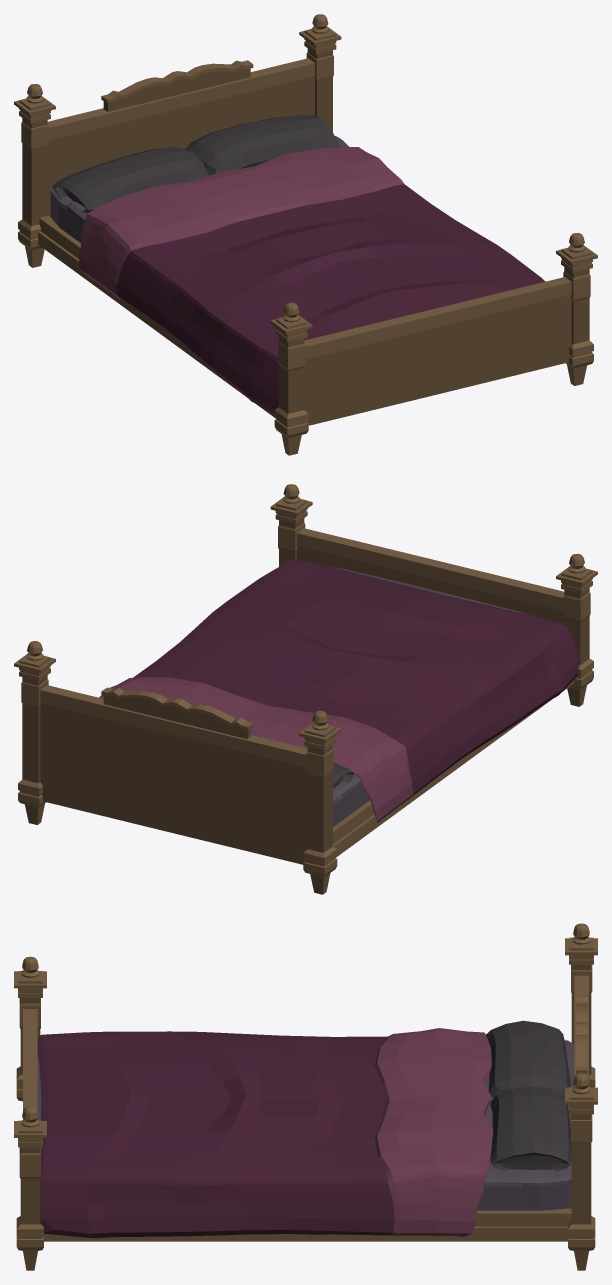
Rendered from bed.glb.
3 renders of one model, top to bottom at view 1: azimuth 30°, elevation 25°; view 2: azimuth 150°, elevation 25°; view 3: azimuth 270°, elevation 25°, orthographic. The views are drawn at different scales.
Parts seen in each view (by area): view 1: BedFrame; view 2: BedFrame; view 3: BedFrame.
Part boxes in pixels (<box>): BedFrame: <box>14,14,597,455</box>; BedFrame: <box>14,484,597,894</box>; BedFrame: <box>14,923,597,1270</box>.
Size of the model in its own units: 2.83 by 1.56 by 4.26.
